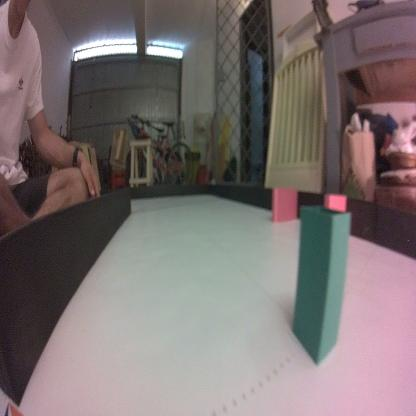green: (291, 204, 353, 374)
magenta: (271, 184, 298, 219)
